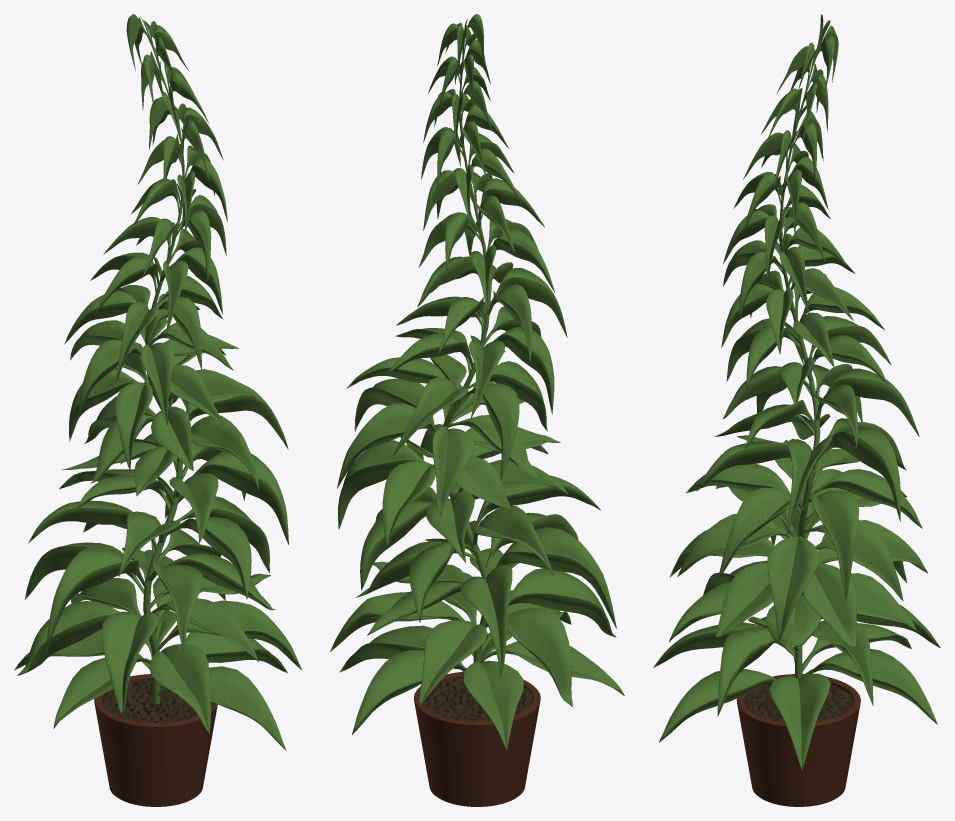
The model's file is office_plant.glb.
3 renders of one model, left to right at view 1: azimuth 30°, elevation 25°; view 2: azimuth 150°, elevation 25°; view 3: azimuth 270°, elevation 25°, orthographic. The views are drawn at different scales.
Parts seen in each view (by area): view 1: Office Plant_0; view 2: Office Plant_0; view 3: Office Plant_0.
Boxes of the visible parts, box(x1,y1,x2,y2) form: Office Plant_0: box(14, 14, 301, 806); Office Plant_0: box(330, 14, 624, 806); Office Plant_0: box(653, 14, 940, 806).
Size of the model in its own units: 0.7924 by 2.27 by 0.7687.
